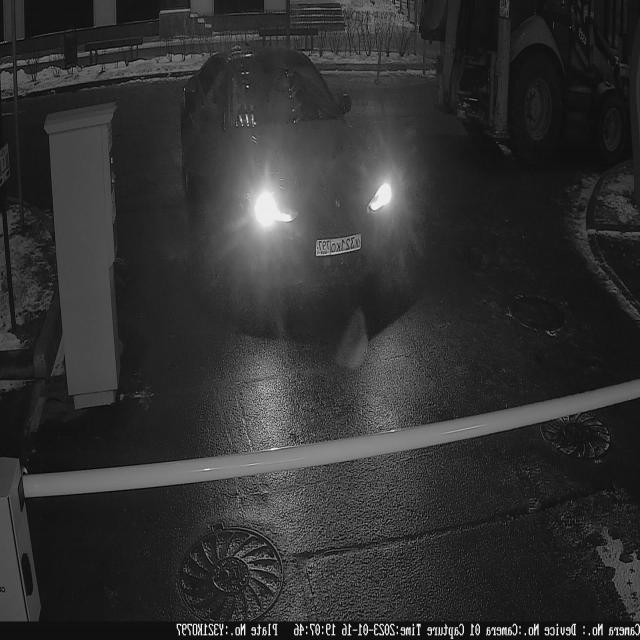car-plate-numbers: (313, 228, 365, 263)
